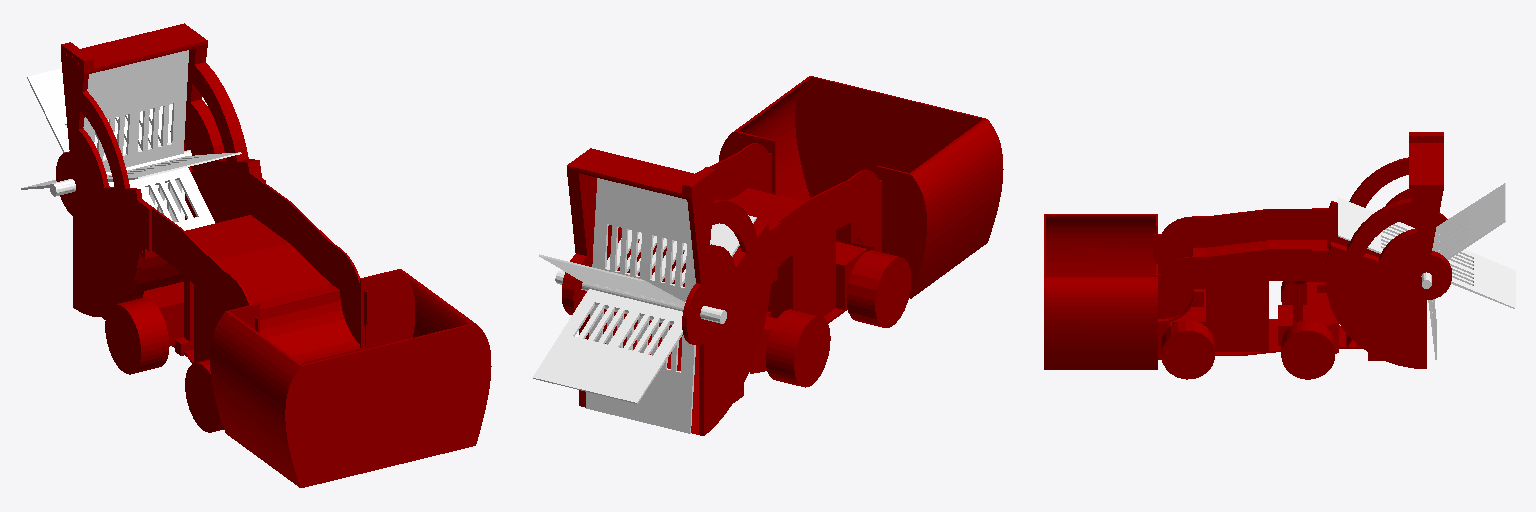
robot.urdf — pick_ball_robot:
<?xml version="1.0" encoding="utf-8"?>
<!-- This URDF was automatically created by SolidWorks to URDF Exporter! Originally created by [author] ([email redacted]) 
     Commit Version: 1.5.1-0-g916b5db  Build Version: 1.5.7152.31018
     For more information, please see http://wiki.ros.org/sw_urdf_exporter -->
<robot
  name="pick_ball_robot">
  <link name="base_link">
    <inertial>
      <origin
        xyz="0.00313944027593173 0.0475899393813772 -0.0240568035950959"
        rpy="0 0 0" />
      <mass
        value="2.30604944660762" />
      <inertia
        ixx="0.0300210071128899"
        ixy="-0.000347726628279156"
        ixz="0.00113792081446474"
        iyy="0.0311434930507062"
        iyz="0.00385703431405476"
        izz="0.0107730815869623" />
    </inertial>
    <visual>
      <origin
        xyz="0 0 0"
        rpy="0 0 0" />
      <geometry>
        <mesh
          filename="package://pick_ball_robot/meshes/base_link.STL" />
      </geometry>
      <material
        name="">
        <color
          rgba="0.686274509803922 0 0 1" />
      </material>
    </visual>
    <collision>
      <origin
        xyz="0 0 0"
        rpy="0 0 0" />
      <geometry>
        <mesh
          filename="package://pick_ball_robot/meshes/base_link.STL" />
      </geometry>
    </collision>
  </link>

  <gazebo reference="base_link">
      <material>Gazebo/Blue</material>
  </gazebo>

  <link name="paddle_blade">
    <inertial>
      <origin
        xyz="0.086594 5.0432E-14 -7.4224E-13"
        rpy="0 0 0" />
      <mass
        value="0.16555" />
      <inertia
        ixx="0.00063183"
        ixy="3.5324E-16"
        ixz="-4.9024E-15"
        iyy="0.00050637"
        iyz="1.4437E-13"
        izz="0.00050637" />
    </inertial>
    <visual>
      <origin
        xyz="0 0 0"
        rpy="0 0 0" />
      <geometry>
        <mesh
          filename="package://pick_ball_robot/meshes/paddle_blade.STL" />
      </geometry>
      <material
        name="">
        <color
          rgba="1 1 1 1" />
      </material>
    </visual>
    <collision>
      <origin
        xyz="0 0 0"
        rpy="0 0 0" />
      <geometry>
        <mesh
          filename="package://pick_ball_robot/meshes/paddle_blade.STL" />
      </geometry>
    </collision>
  </link>

  <gazebo reference="paddle_blade">
      <material>Gazebo/Gray</material>
  </gazebo>

  <joint name="joint_blade" type="revolute">
    <origin
      xyz="0.0835 0.22223 0.107"
      rpy="0.43349 0 -3.1416" />
    <parent
      link="base_link" />
    <child
      link="paddle_blade" />
    <axis
      xyz="0 0 0" />
    <limit
      lower="0"
      upper="0"
      effort="0"
      velocity="0" />
  </joint>
</robot>

--- Render facts (derived) ---
The picture shows the robot from 3 angles, left to right: view 1: azimuth 30°, elevation 25°; view 2: azimuth 150°, elevation 25°; view 3: azimuth 270°, elevation 25°; orthographic projection.
Robot: pick_ball_robot — 2 links, 1 joints (1 revolute); root link base_link; default pose: every joint at zero.
Visible links, largest first — view 1: base_link, paddle_blade; view 2: base_link, paddle_blade; view 3: base_link, paddle_blade.
Boxes of the visible links, bbox=[...] form: base_link: bbox=[56, 23, 491, 487]; paddle_blade: bbox=[21, 50, 241, 230]; base_link: bbox=[562, 76, 1003, 435]; paddle_blade: bbox=[532, 178, 756, 433]; base_link: bbox=[1044, 132, 1451, 379]; paddle_blade: bbox=[1338, 183, 1515, 359].
Bounding box of the posed robot: 0.212 × 0.5571 × 0.25 m (x, y, z).
2 mesh visuals loaded from 2 distinct referenced files (2 binary STL).